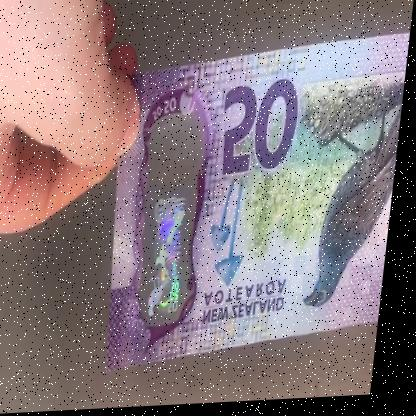50B: (150, 127, 205, 323)
